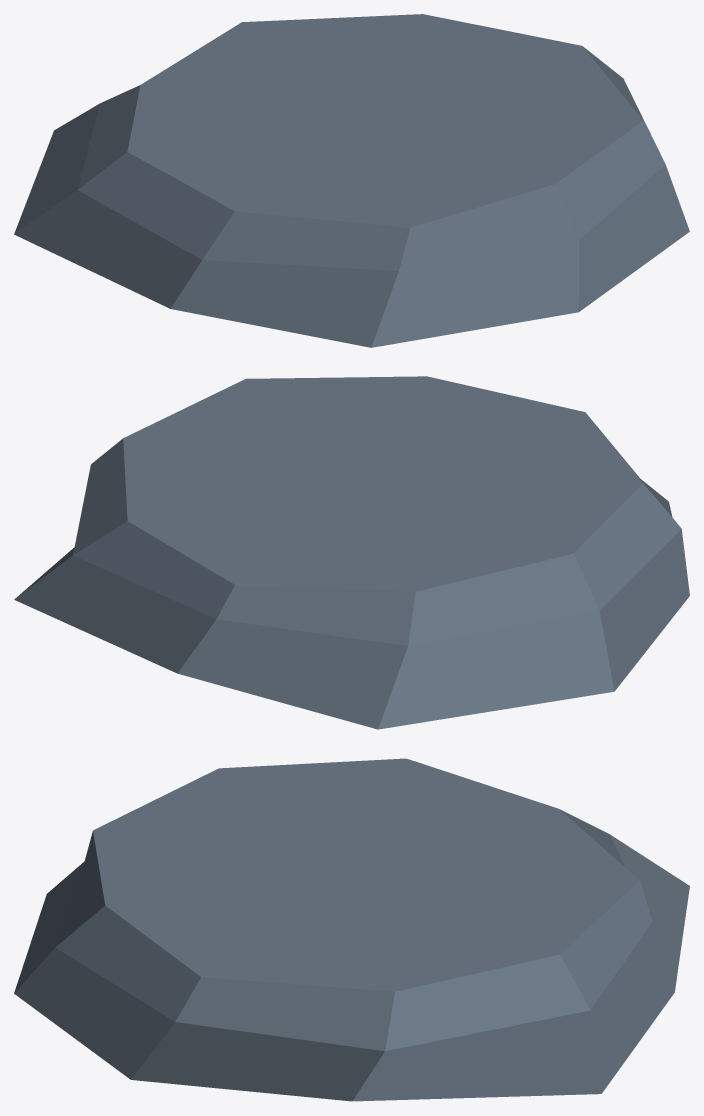
Rendered from ROCK_Glacial_03_FlatSlab.fbx.
The picture shows the model from 3 angles, top to bottom: view 1: azimuth 30°, elevation 25°; view 2: azimuth 150°, elevation 25°; view 3: azimuth 270°, elevation 25°; orthographic projection. The views are drawn at different scales.
Visible parts, largest first — view 1: ROCK_Glacial_03_FlatSlab; view 2: ROCK_Glacial_03_FlatSlab; view 3: ROCK_Glacial_03_FlatSlab.
Boxes of the visible parts, x1=… form: ROCK_Glacial_03_FlatSlab: x1=14, y1=14, x2=689, y2=347; ROCK_Glacial_03_FlatSlab: x1=14, y1=376, x2=689, y2=729; ROCK_Glacial_03_FlatSlab: x1=14, y1=758, x2=689, y2=1101.
Bounding box in the file's own units: 255 × 39.83 × 249.
